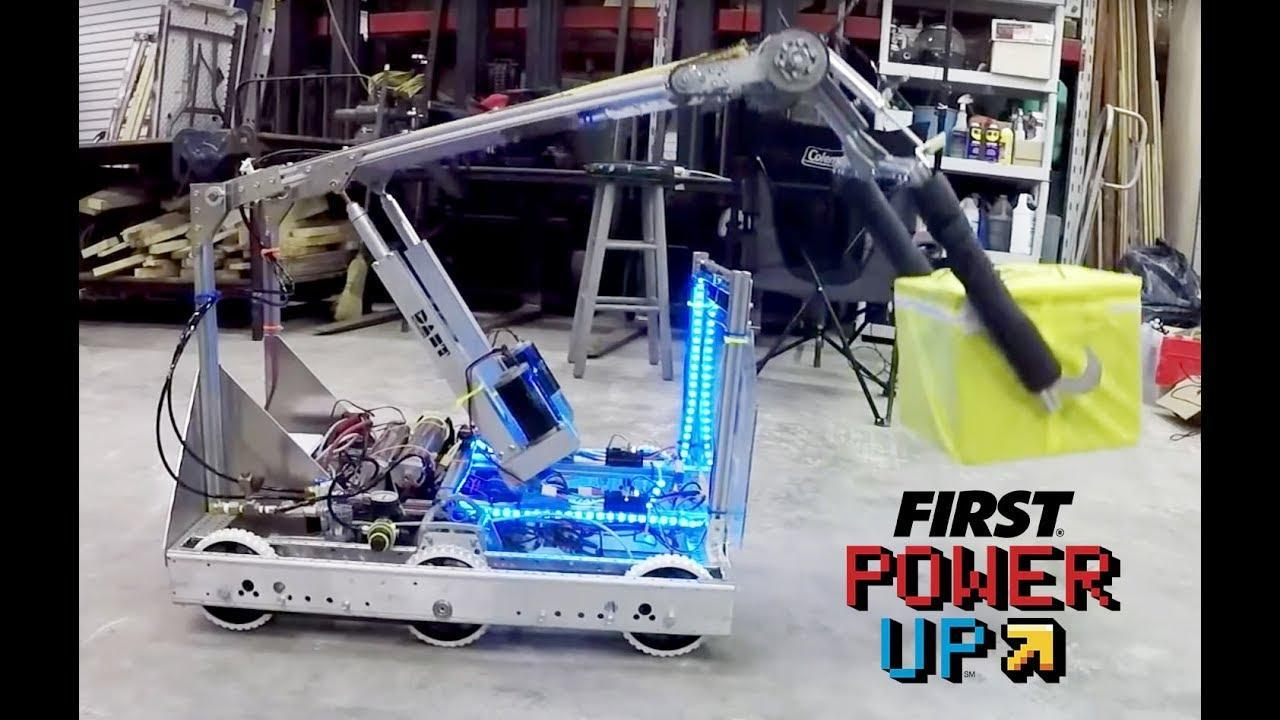robot: (148, 12, 1156, 659)
